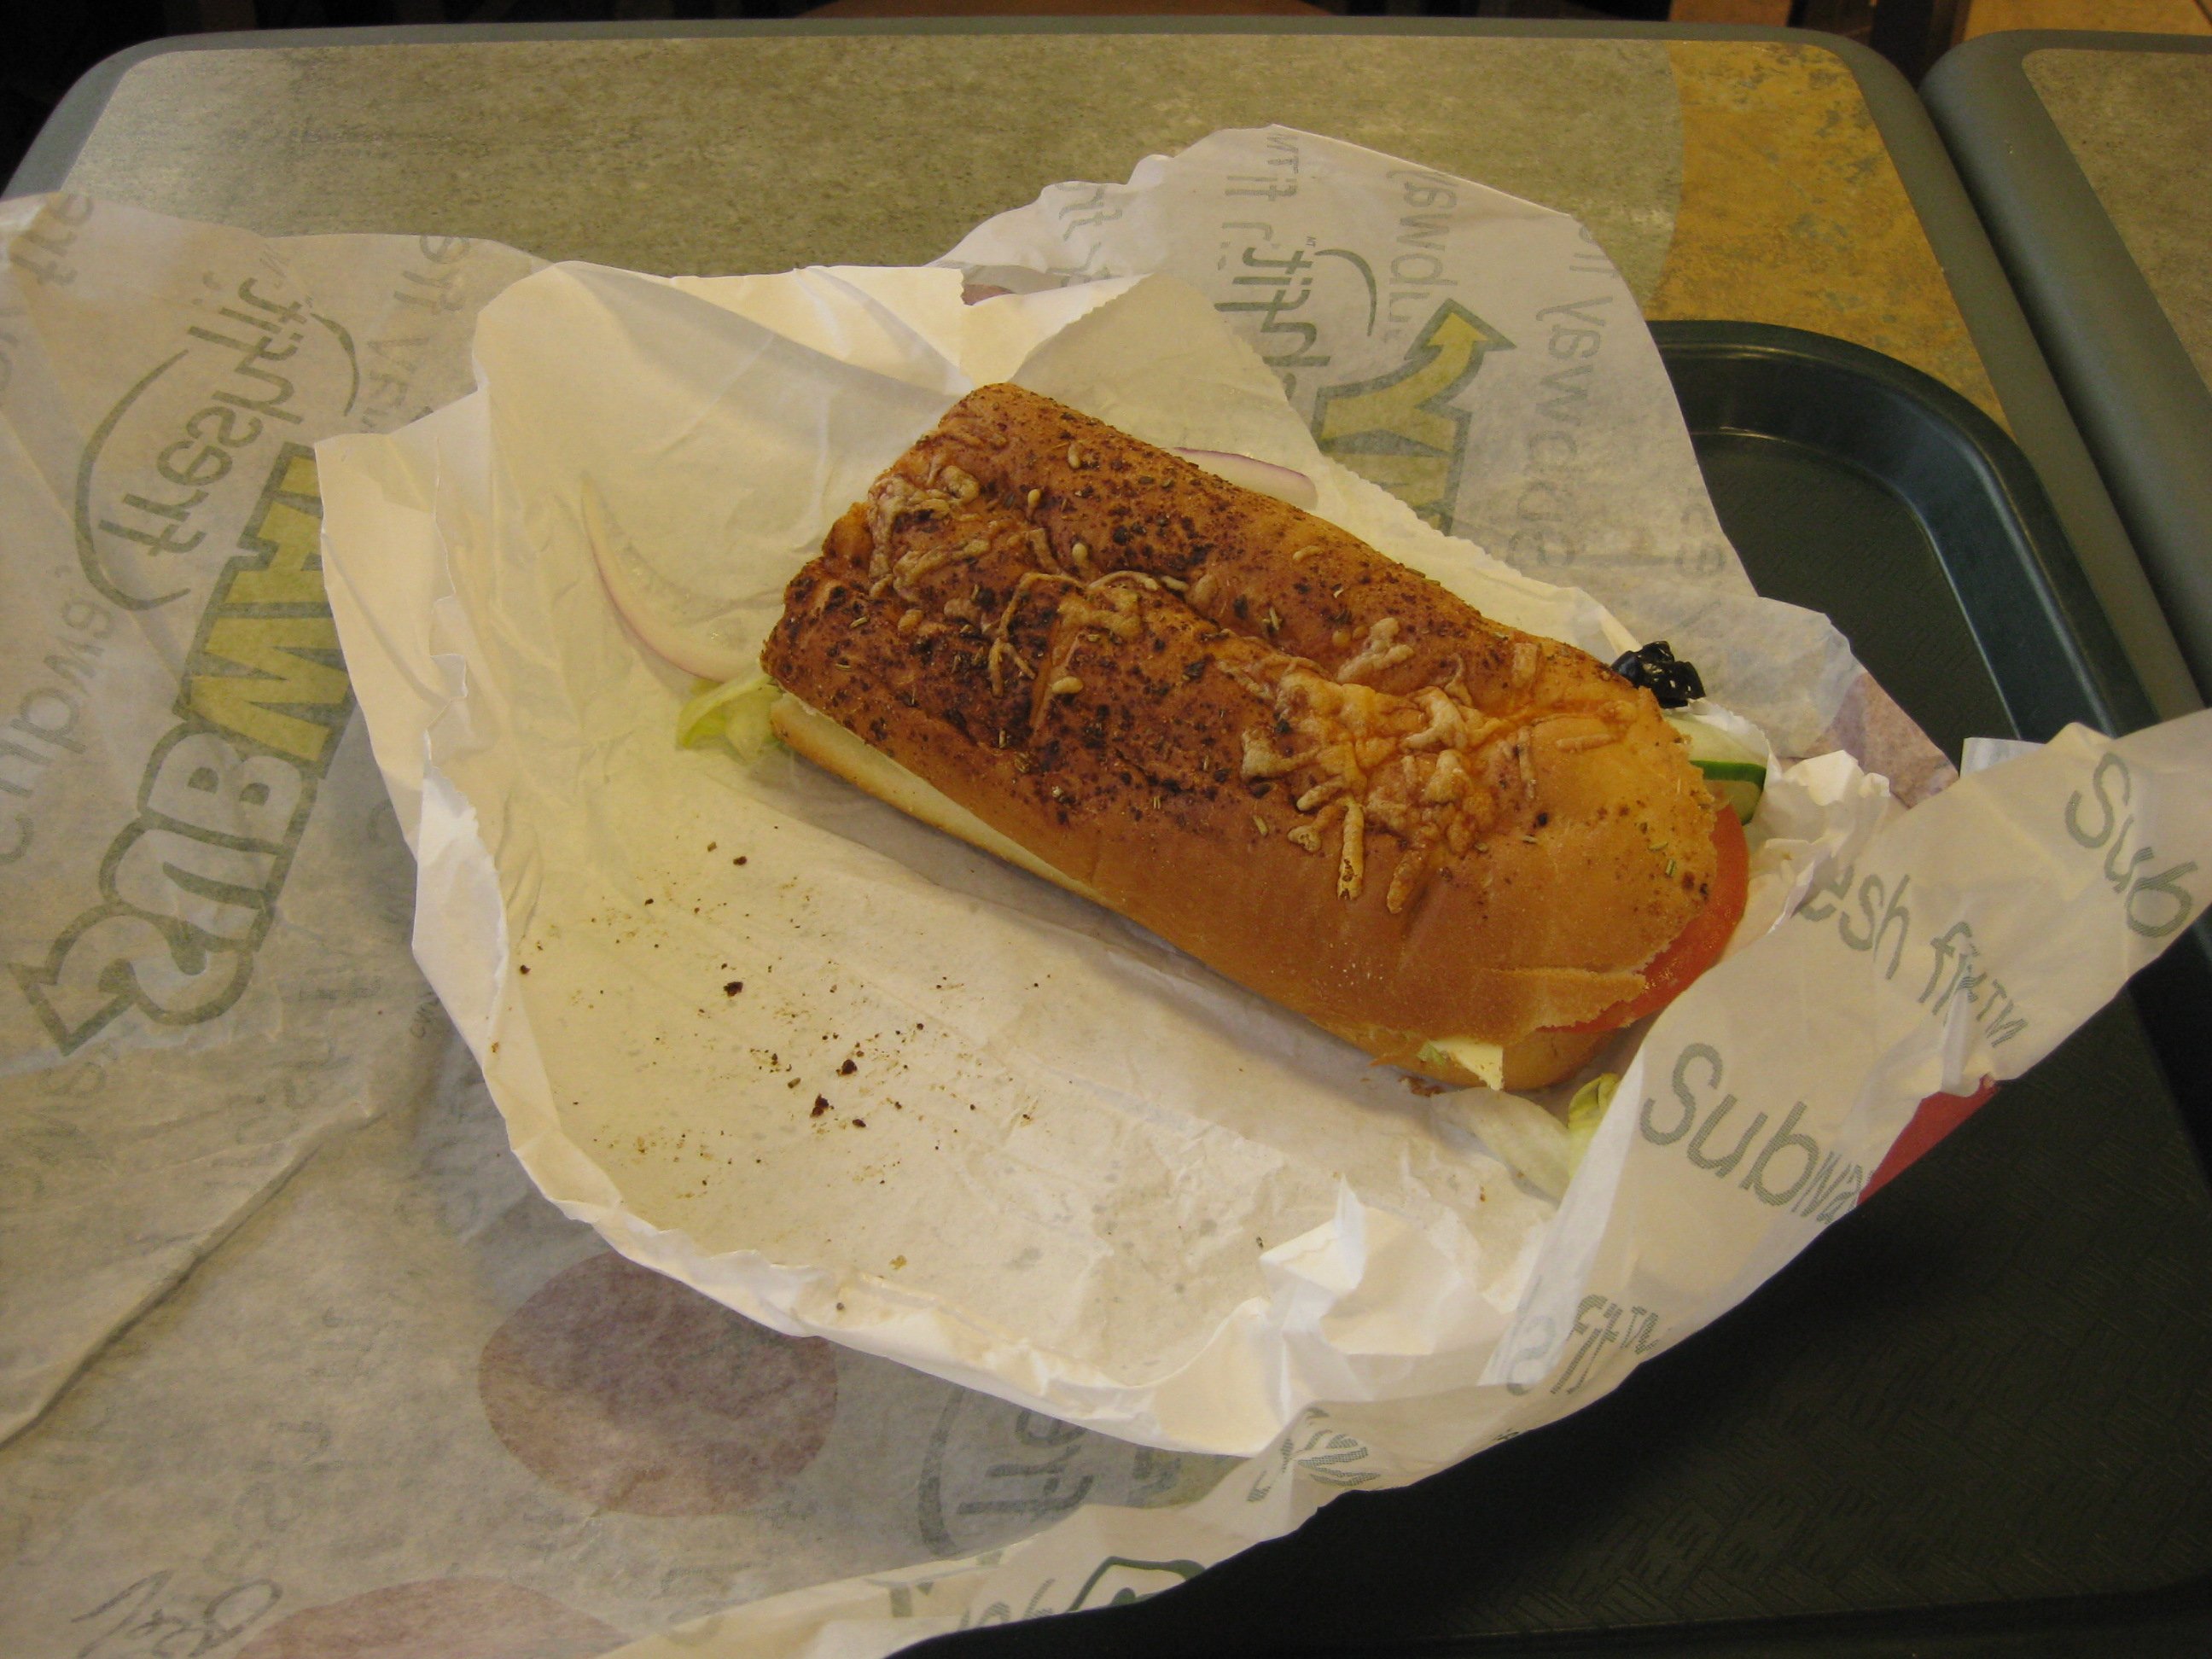sub: (746, 346, 1782, 1121)
